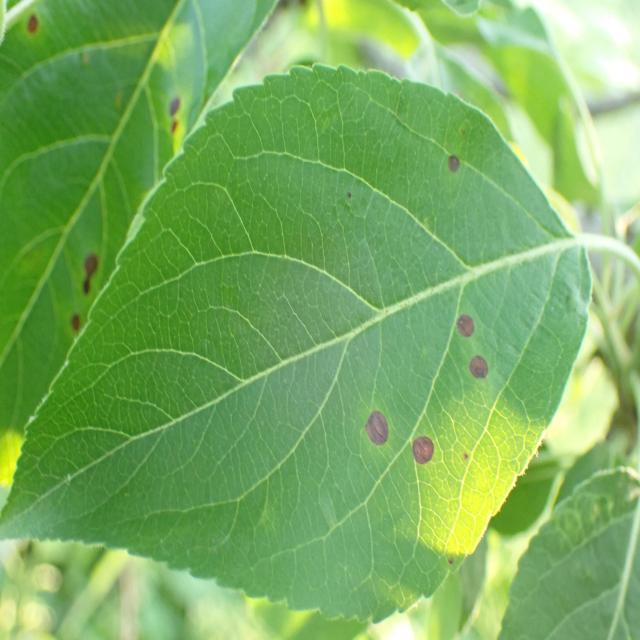Black Rot: (352, 396, 397, 452), (406, 415, 439, 485), (433, 130, 468, 190), (58, 308, 98, 352), (18, 2, 53, 52), (453, 290, 482, 350), (77, 246, 103, 298), (466, 350, 489, 390), (162, 89, 190, 121)
